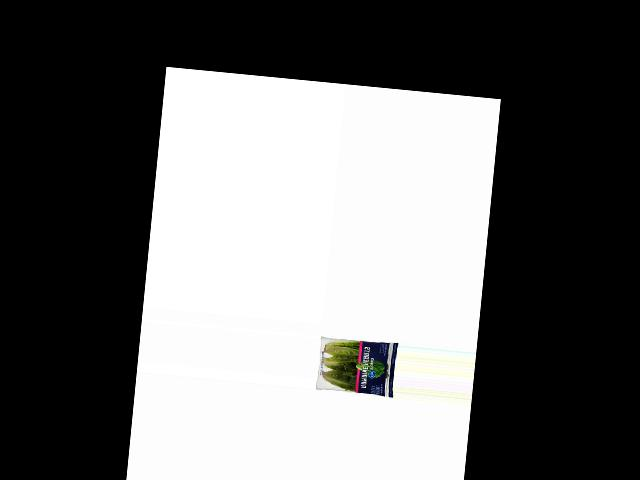lettuce: (317, 333, 397, 399)
